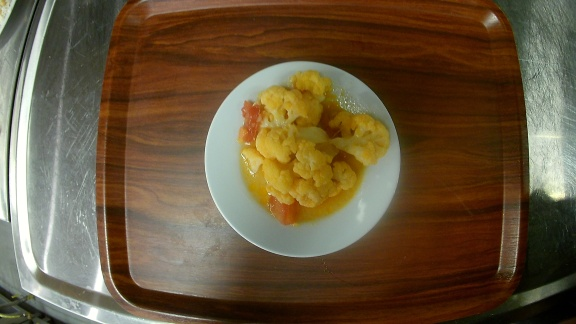karnibahar: (203, 58, 401, 258)
